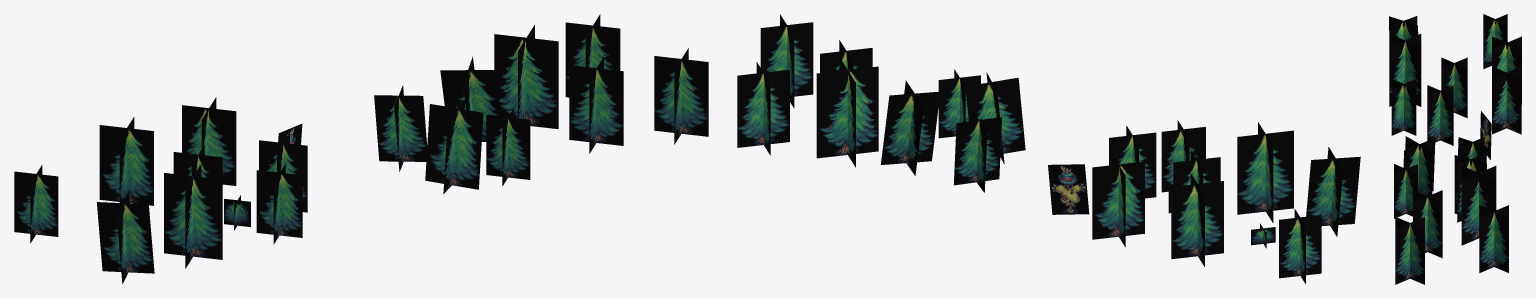
The model's file is Props5.glb.
3 renders of one model, left to right at view 1: azimuth 30°, elevation 25°; view 2: azimuth 150°, elevation 25°; view 3: azimuth 270°, elevation 25°, orthographic. The views are drawn at different scales.
Visible parts, largest first — view 1: Props5; view 2: Props5; view 3: Props5.
Boxes of the visible parts, x1,y1,x2,y2 form: Props5: (14,14,708,284); Props5: (737,14,1360,284); Props5: (1389,14,1521,284).
Bounding box in the file's own units: 7.7 × 1.09 × 1.92.
Materials: 1 (1 with a texture image).
